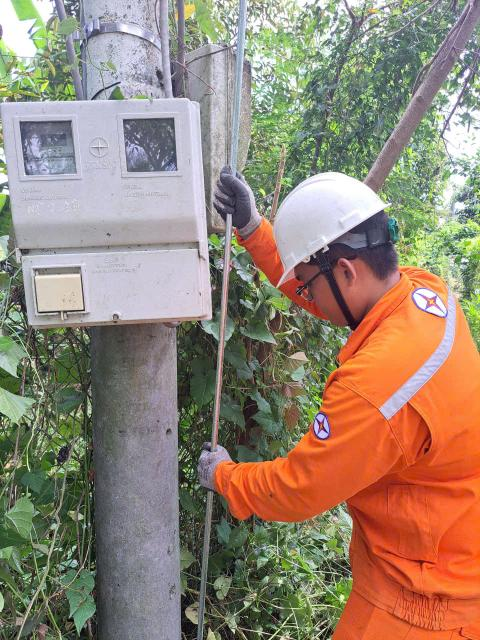gloves: (210, 162, 261, 236), (193, 432, 236, 508)
helmet: (260, 174, 401, 286)
